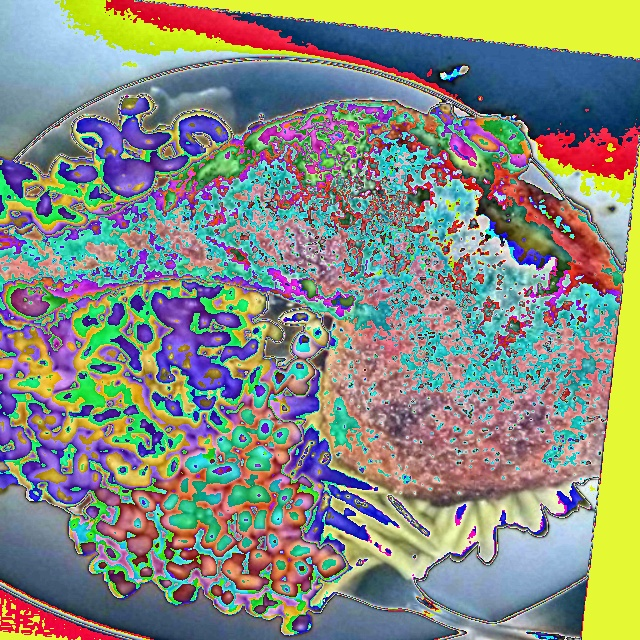background: (0, 94, 625, 636)
